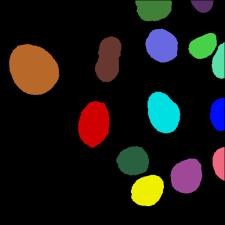cell: (9, 43, 60, 96), (79, 102, 109, 150), (147, 92, 182, 133), (170, 159, 203, 197), (95, 38, 122, 83), (131, 175, 164, 207), (118, 145, 149, 176), (187, 33, 218, 59), (135, 1, 173, 22), (210, 99, 225, 133), (212, 43, 225, 79), (214, 145, 225, 183), (192, 1, 214, 12)
